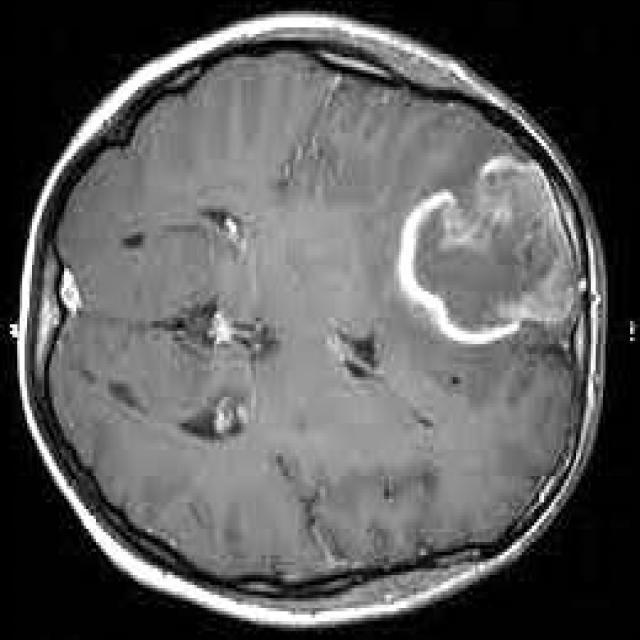tumor: (399, 158, 576, 346)
